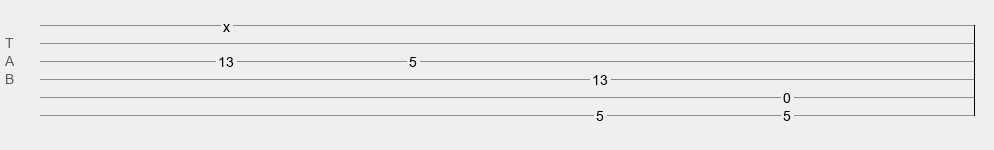0: (783, 90, 791, 100)
13: (218, 54, 234, 64), (592, 72, 608, 82)
5: (409, 54, 417, 64), (596, 108, 604, 118), (783, 108, 791, 118)
x: (223, 19, 230, 27)
